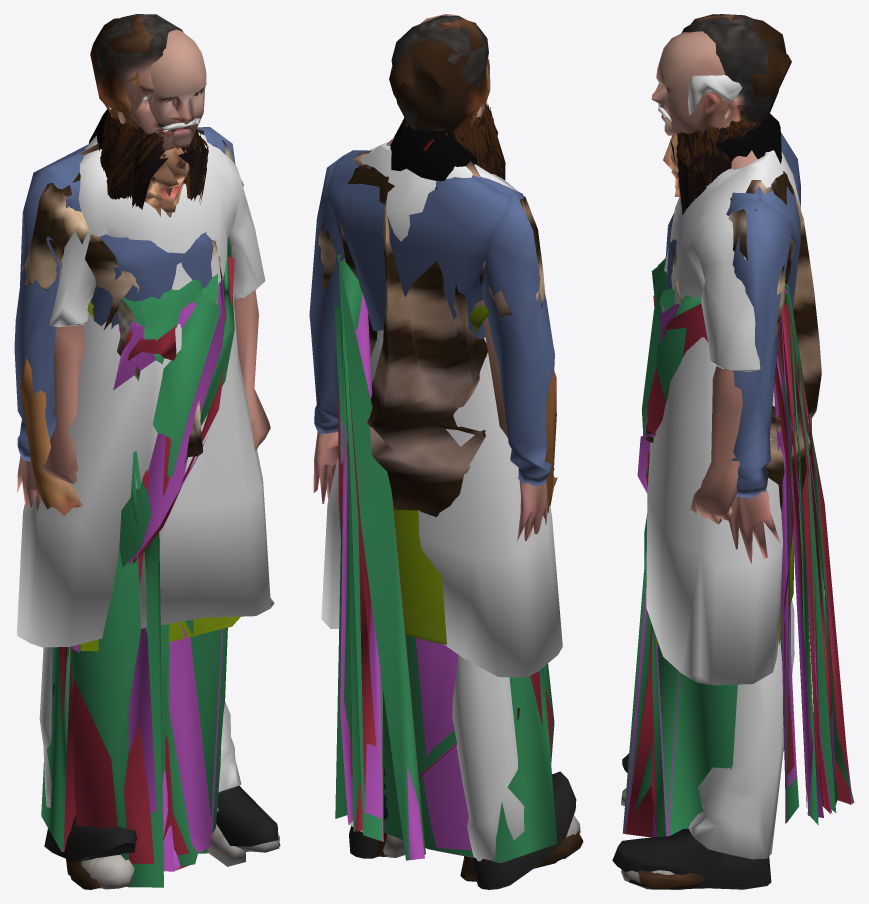
Rendered from shop_people.glb.
The picture shows the model from 3 angles, left to right: view 1: azimuth 30°, elevation 25°; view 2: azimuth 150°, elevation 25°; view 3: azimuth 270°, elevation 25°; orthographic projection.
Visible parts, largest first — view 1: old_man_veshti, woman_saree_green, man_casual, woman_saree_violet, woman_saree_maroon, young_man, woman_modern, girl_churidar; view 2: old_man_veshti, man_casual, woman_saree_green, young_man, woman_saree_violet, girl_churidar, woman_saree_maroon, woman_modern; view 3: old_man_veshti, woman_saree_green, man_casual, woman_saree_maroon, young_man, woman_saree_violet, girl_churidar, woman_modern.
Boxes of the visible parts, <box> form: old_man_veshti: <box>16,29,278,861</box>; woman_saree_green: <box>41,114,234,887</box>; man_casual: <box>14,14,279,889</box>; woman_saree_violet: <box>62,136,224,871</box>; woman_saree_maroon: <box>59,146,234,870</box>; young_man: <box>20,16,280,889</box>; woman_modern: <box>100,112,245,866</box>; girl_churidar: <box>80,109,248,851</box>; old_man_veshti: <box>321,14,576,889</box>; man_casual: <box>309,15,580,859</box>; woman_saree_green: <box>334,103,557,862</box>; young_man: <box>318,18,583,881</box>; woman_saree_violet: <box>338,165,503,862</box>; girl_churidar: <box>359,120,507,644</box>; woman_saree_maroon: <box>338,375,552,862</box>; woman_modern: <box>401,103,505,178</box>; old_man_veshti: <box>612,31,800,889</box>; woman_saree_green: <box>622,120,854,852</box>; man_casual: <box>621,14,800,889</box>; woman_saree_maroon: <box>625,170,851,837</box>; young_man: <box>629,14,821,889</box>; woman_saree_violet: <box>624,137,852,837</box>; girl_churidar: <box>655,113,793,645</box>; woman_modern: <box>662,119,759,312</box>.
Size of the model in its own units: 0.5259 by 1.73 by 0.455.
Materials: 1 (1 with a texture image).
